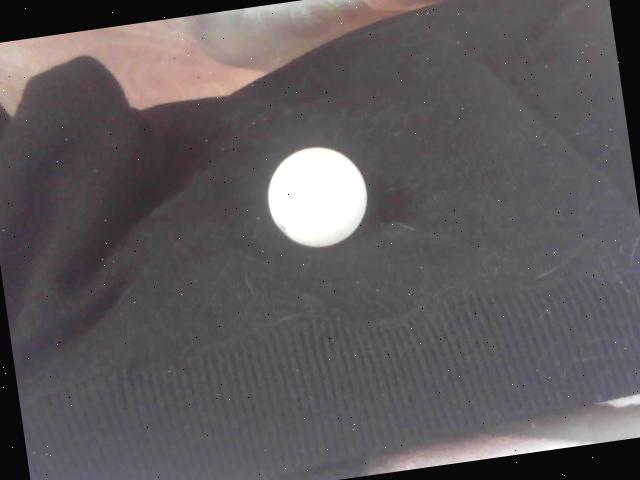ball: (263, 142, 373, 252)
